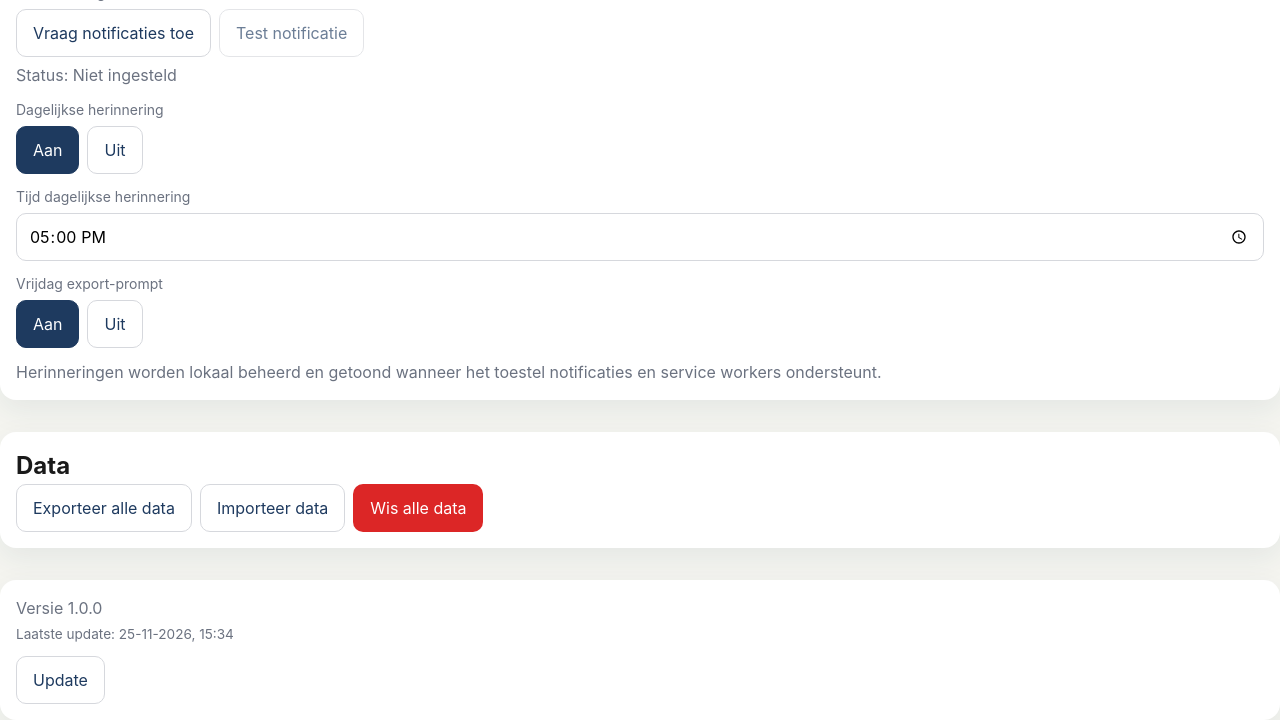
Test case: SettingsPage › shows an error when the manual app update fails
(page scrolled)
Click the button "Update".
click(60, 680)  # box [16,656,105,704]
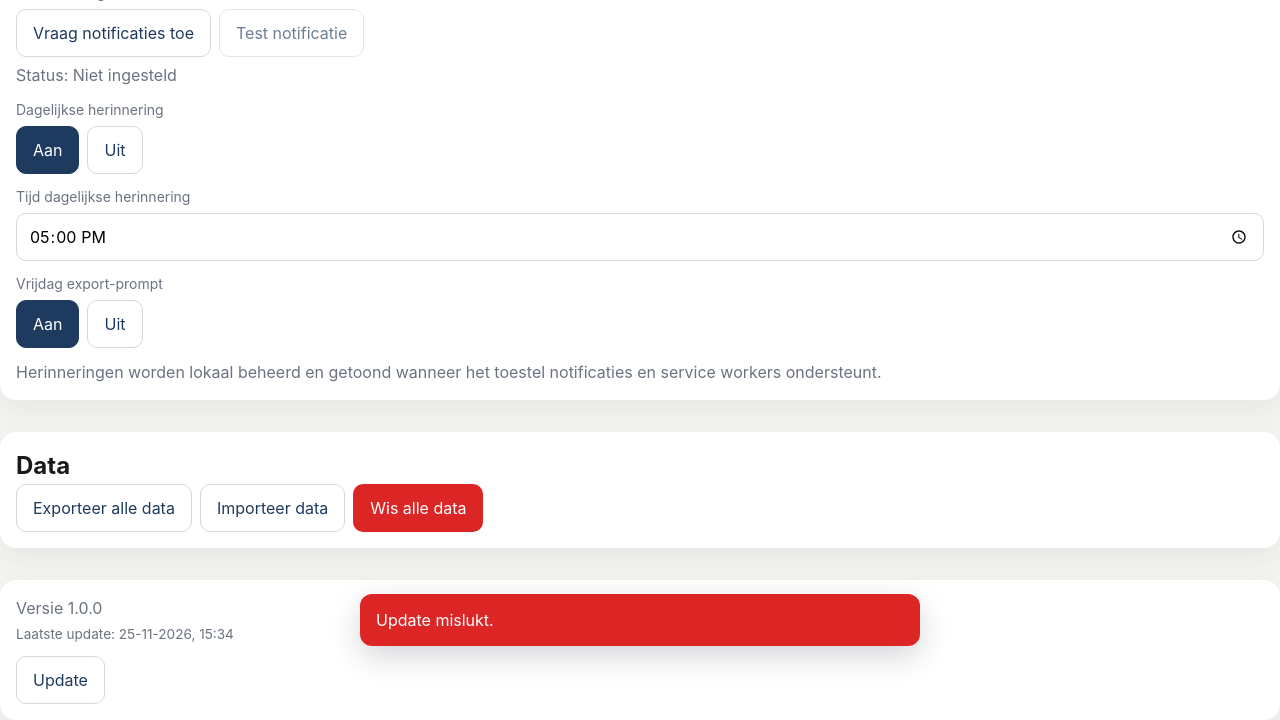
Check: the text "Update mislukt." is shown, box [360,594,920,646]
